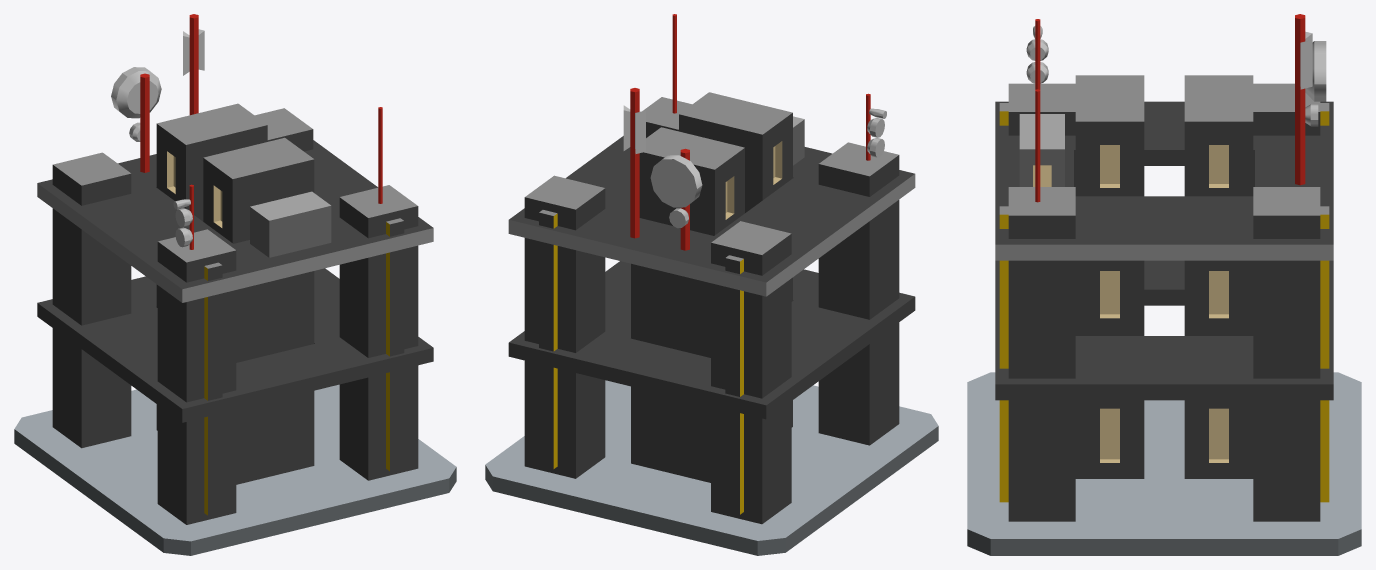
File: Elevator.fbx
The picture shows the model from 3 angles, left to right: view 1: azimuth 30°, elevation 25°; view 2: azimuth 150°, elevation 25°; view 3: azimuth 270°, elevation 25°; orthographic projection. The views are drawn at different scales.
Parts seen in each view (by area): view 1: Elevator, Elevator_Bottom, Elevator_Roof; view 2: Elevator, Elevator_Bottom, Elevator_Roof; view 3: Elevator, Elevator_Bottom, Elevator_Roof.
Part boxes in pixels (x1,y1,x2,y2): Elevator: (37, 103, 433, 524); Elevator_Bottom: (14, 384, 456, 555); Elevator_Roof: (111, 14, 382, 257); Elevator: (508, 92, 915, 524); Elevator_Bottom: (485, 380, 938, 555); Elevator_Roof: (623, 14, 886, 250); Elevator: (995, 75, 1333, 521); Elevator_Bottom: (967, 372, 1361, 555); Elevator_Roof: (1019, 14, 1326, 202).
Size of the model in its own units: 64.51 by 84.07 by 64.51.
